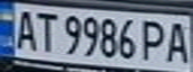6: (115, 16, 142, 61)
8: (100, 15, 121, 60)
9: (57, 11, 84, 56), (78, 12, 100, 57)
A: (9, 6, 39, 52), (163, 18, 193, 64)
P: (139, 17, 169, 63)
T: (33, 8, 60, 53)
